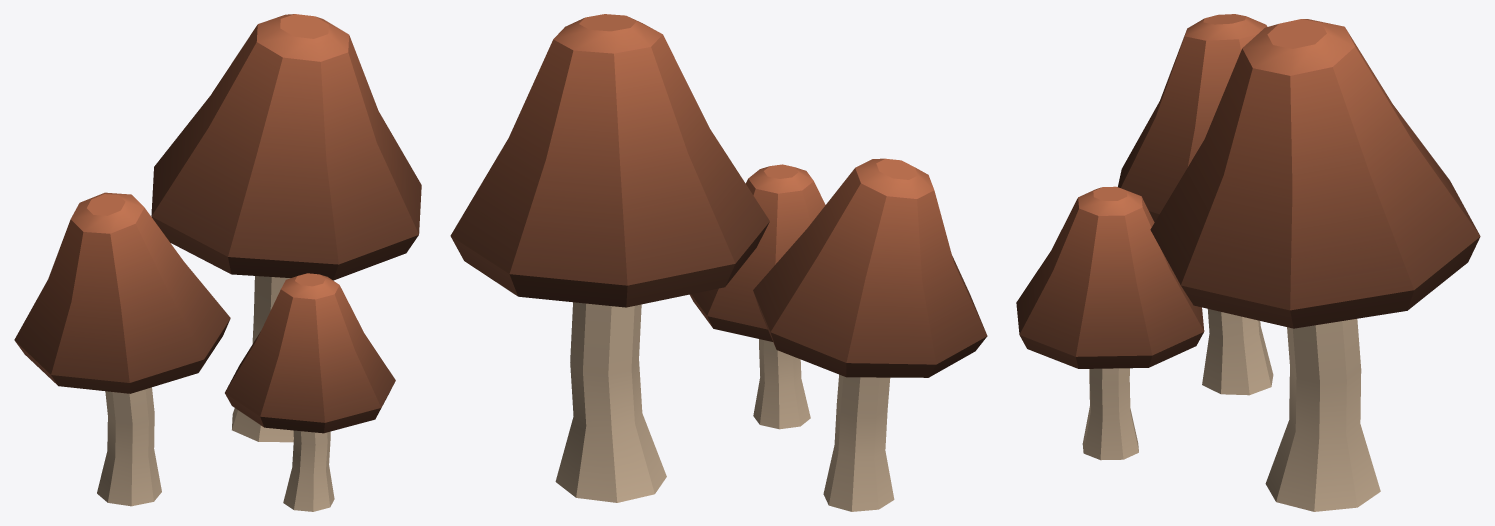
File: Autumn_Mushroom_02.glb
3 views of the same model, side by side, from view 1: azimuth 30°, elevation 25°; view 2: azimuth 150°, elevation 25°; view 3: azimuth 270°, elevation 25° (orthographic). The views are drawn at different scales.
Visible parts, largest first — view 1: Autumn_Mushroom_02_LOD0; view 2: Autumn_Mushroom_02_LOD0; view 3: Autumn_Mushroom_02_LOD0.
Part boxes in pixels (box(x1,y1,x2,y2)): Autumn_Mushroom_02_LOD0: box(14, 14, 421, 511); Autumn_Mushroom_02_LOD0: box(450, 14, 987, 511); Autumn_Mushroom_02_LOD0: box(1016, 14, 1480, 511).
Size of what is drawn, in the model's own units: 0.3154 by 0.2952 by 0.2668.
1 material, 1 textured.
